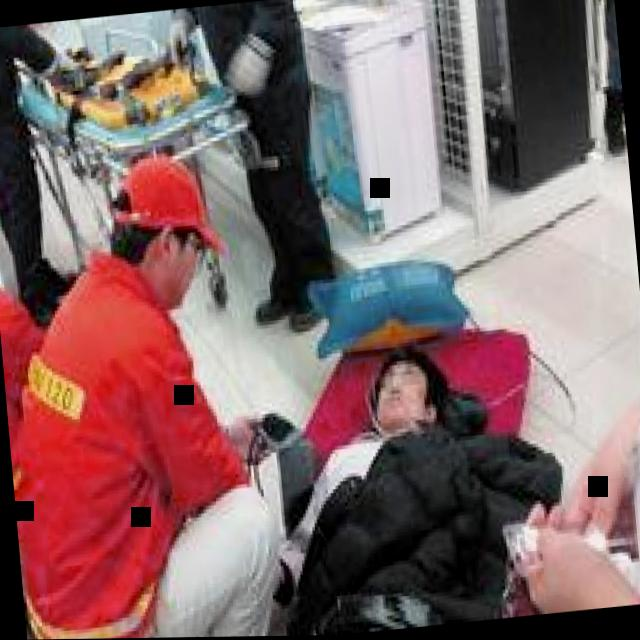Fall-Detected: (221, 295, 520, 637)
